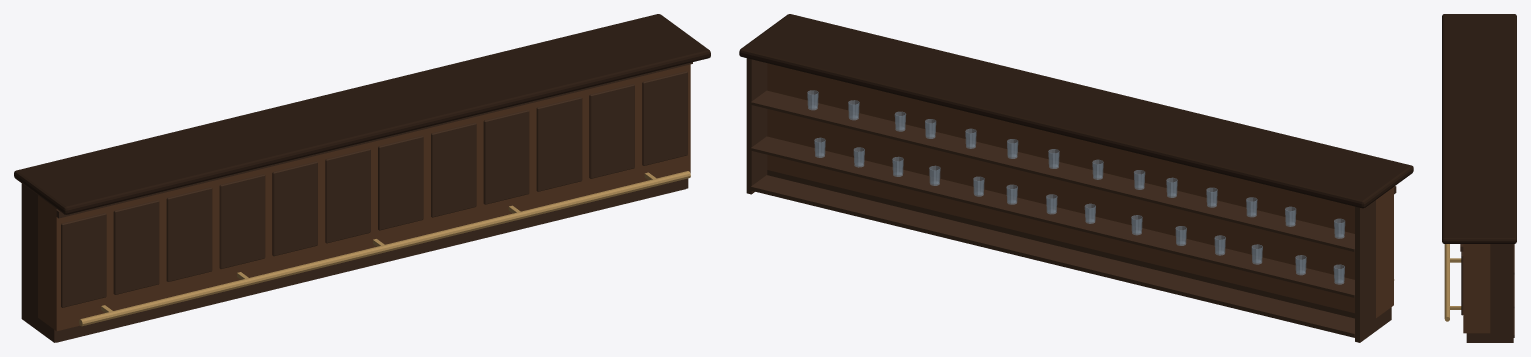
File: bar_counter.glb
3 renders of one model, left to right at view 1: azimuth 30°, elevation 25°; view 2: azimuth 150°, elevation 25°; view 3: azimuth 270°, elevation 25°, orthographic. The views are drawn at different scales.
Parts seen in each view (by area): view 1: bar_counter; view 2: bar_counter; view 3: bar_counter.
Boxes of the visible parts, x1,y1,x2,y2 form: bar_counter: [14, 14, 710, 342]; bar_counter: [739, 14, 1413, 342]; bar_counter: [1442, 14, 1516, 342].
Size of the model in its own units: 5 by 1.1 by 0.7.
